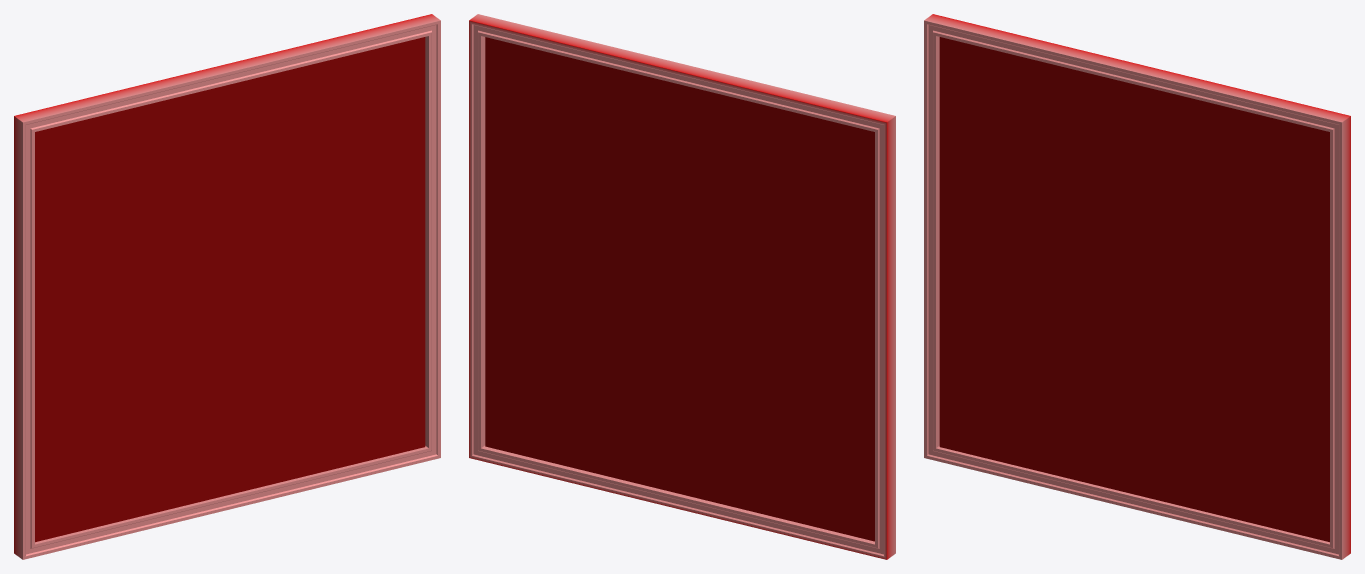
The model's file is Toybox_GlassWall_01.gltf.
The picture shows the model from 3 angles, left to right: view 1: azimuth 30°, elevation 25°; view 2: azimuth 150°, elevation 25°; view 3: azimuth 330°, elevation 25°; orthographic projection.
Visible parts, largest first — view 1: Toybox_GlassWall_01; view 2: Toybox_GlassWall_01; view 3: Toybox_GlassWall_01.
Boxes of the visible parts, left/top/right/bottom form: Toybox_GlassWall_01: left=14, top=14, right=440, bottom=559; Toybox_GlassWall_01: left=469, top=14, right=895, bottom=559; Toybox_GlassWall_01: left=924, top=14, right=1350, bottom=559.
Bounding box in the file's own units: 5 × 5 × 0.185.
